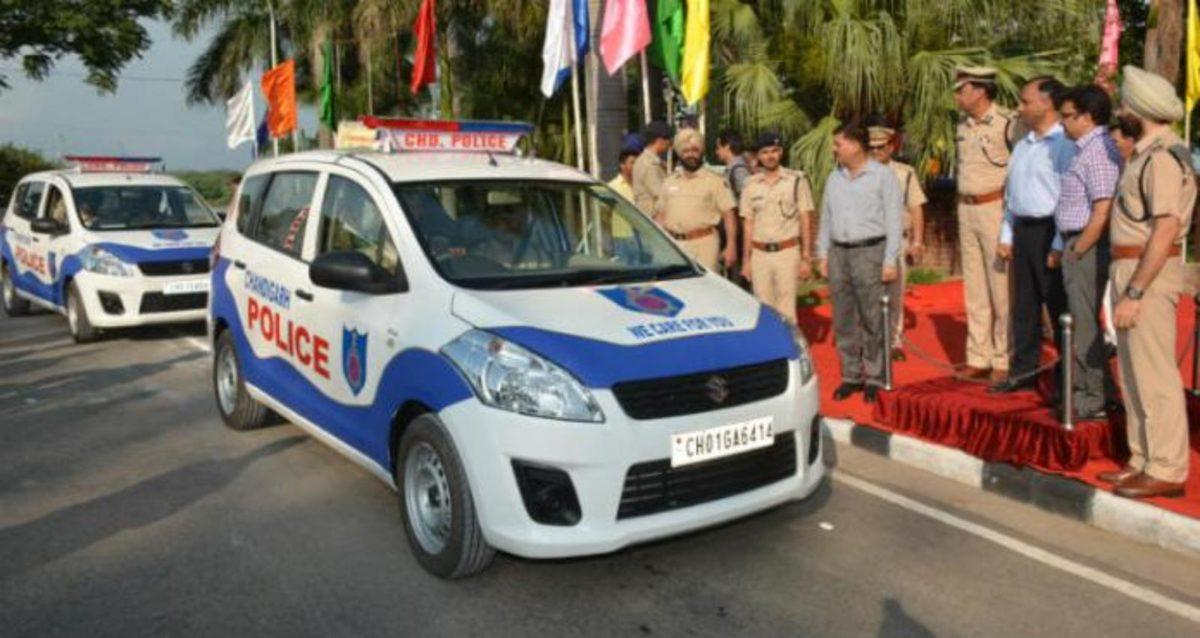Emergency-Vehicles: (178, 112, 843, 547)
